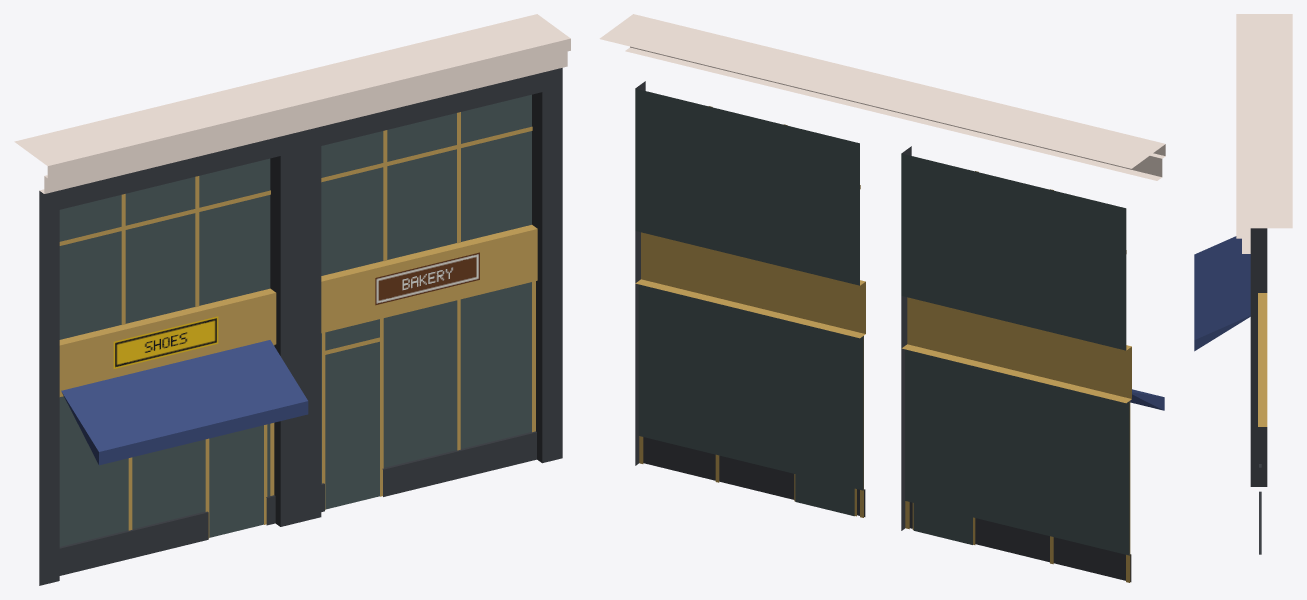
The picture shows the model from 3 angles, left to right: view 1: azimuth 30°, elevation 25°; view 2: azimuth 150°, elevation 25°; view 3: azimuth 270°, elevation 25°; orthographic projection. The views are drawn at different scales.
Parts seen in each view (by area): view 1: a2011/600/base-w3; view 2: a2011/600/base-w3; view 3: a2011/600/base-w3.
Part boxes in pixels (x1=…): a2011/600/base-w3: x1=14, y1=14, x2=570, y2=585; a2011/600/base-w3: x1=599, y1=14, x2=1165, y2=582; a2011/600/base-w3: x1=1194, y1=14, x2=1292, y2=554.
Size of the model in its own units: 9 by 7 by 1.75.
